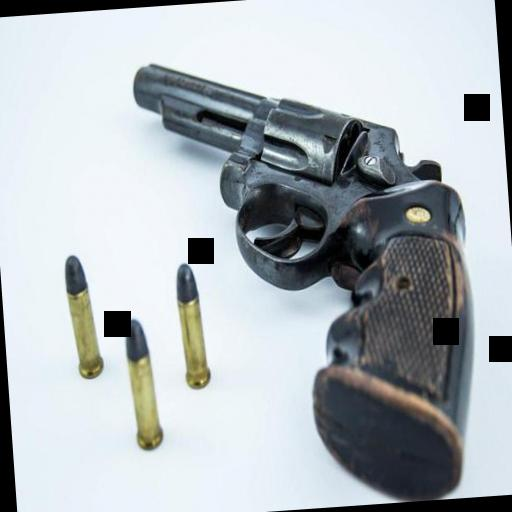Handgun: (127, 33, 485, 512)
